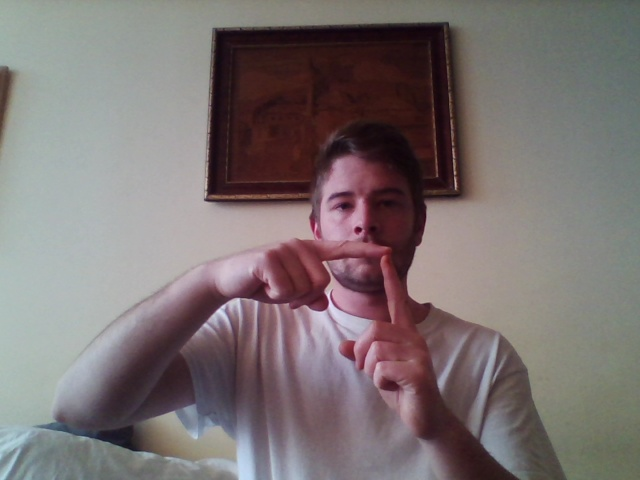kad: (215, 236, 447, 435)
